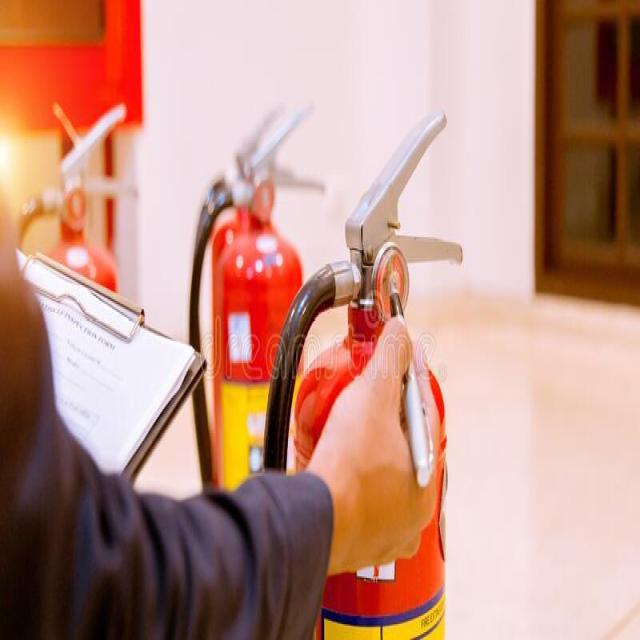fire_extinguisher: (260, 99, 471, 638), (192, 92, 332, 632), (10, 91, 148, 638)
